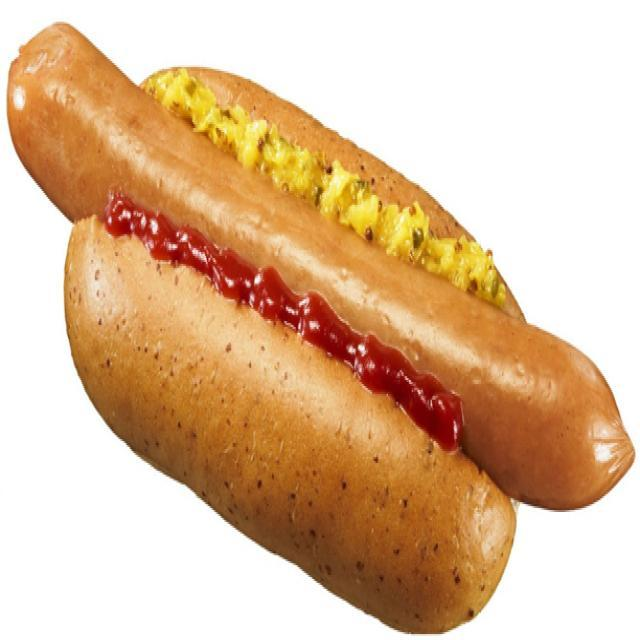Hot Dog: (0, 0, 631, 602)
